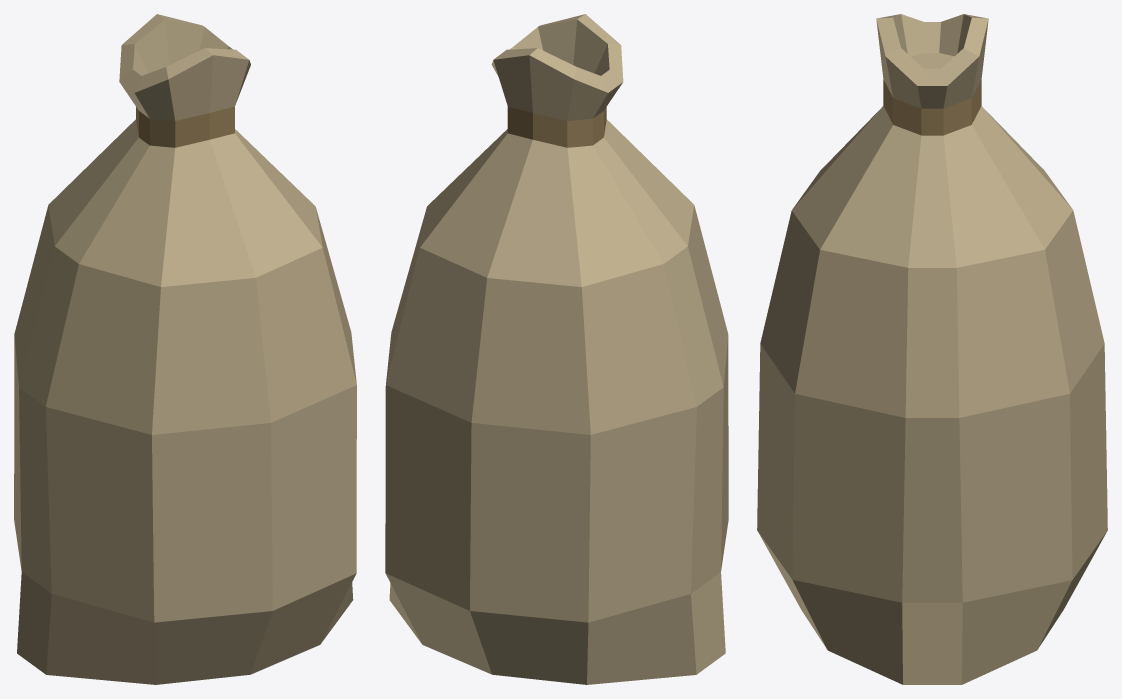
Rendered from Bag_1_1.fbx.
3 views of the same model, side by side, from view 1: azimuth 30°, elevation 25°; view 2: azimuth 150°, elevation 25°; view 3: azimuth 270°, elevation 25° (orthographic).
Visible parts, largest first — view 1: Bag_1_1; view 2: Bag_1_1; view 3: Bag_1_1.
Boxes of the visible parts, x1,y1,x2,y2 form: Bag_1_1: [14, 14, 356, 684]; Bag_1_1: [385, 14, 728, 684]; Bag_1_1: [757, 14, 1107, 684].
Bounding box in the file's own units: 22.4 × 41.36 × 22.19.
